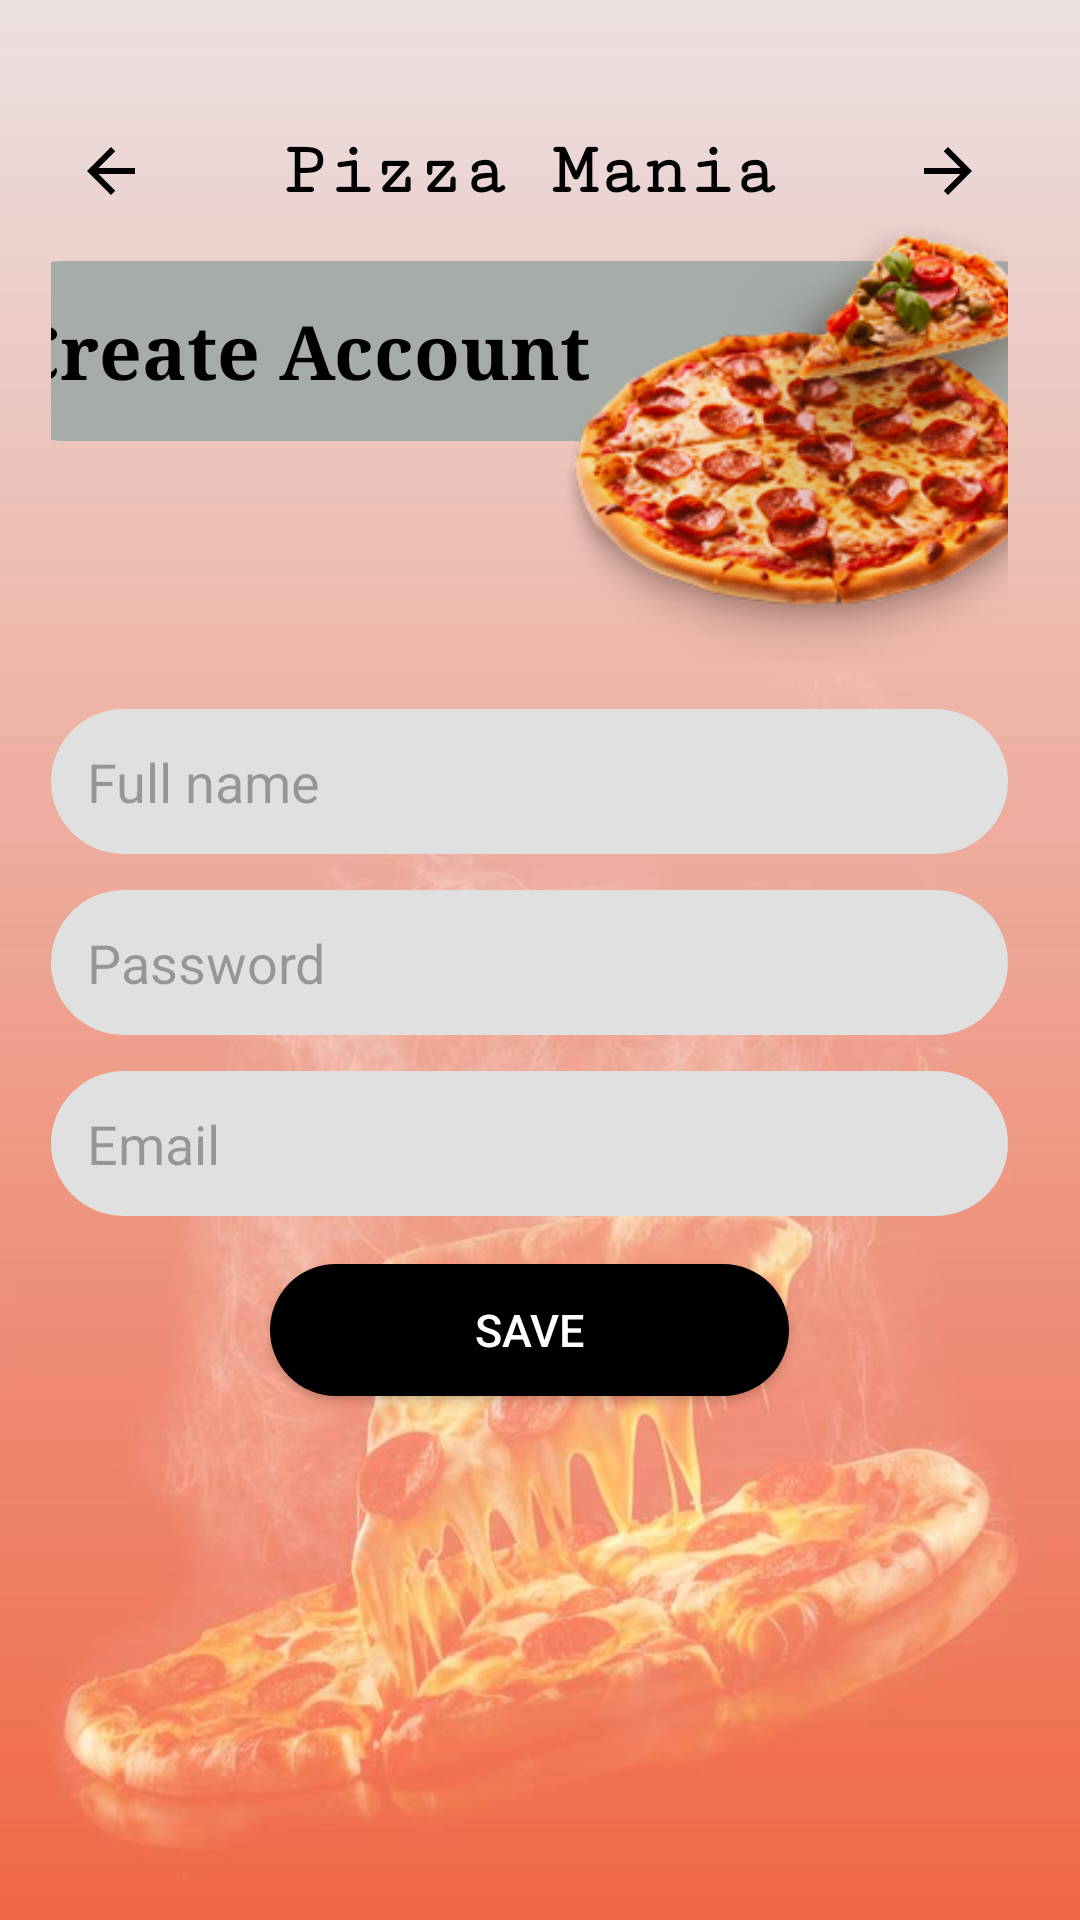

Icon click points for this 1080w x 1920h phone screenshot, format point (x, y):
Next: point (948, 171)
